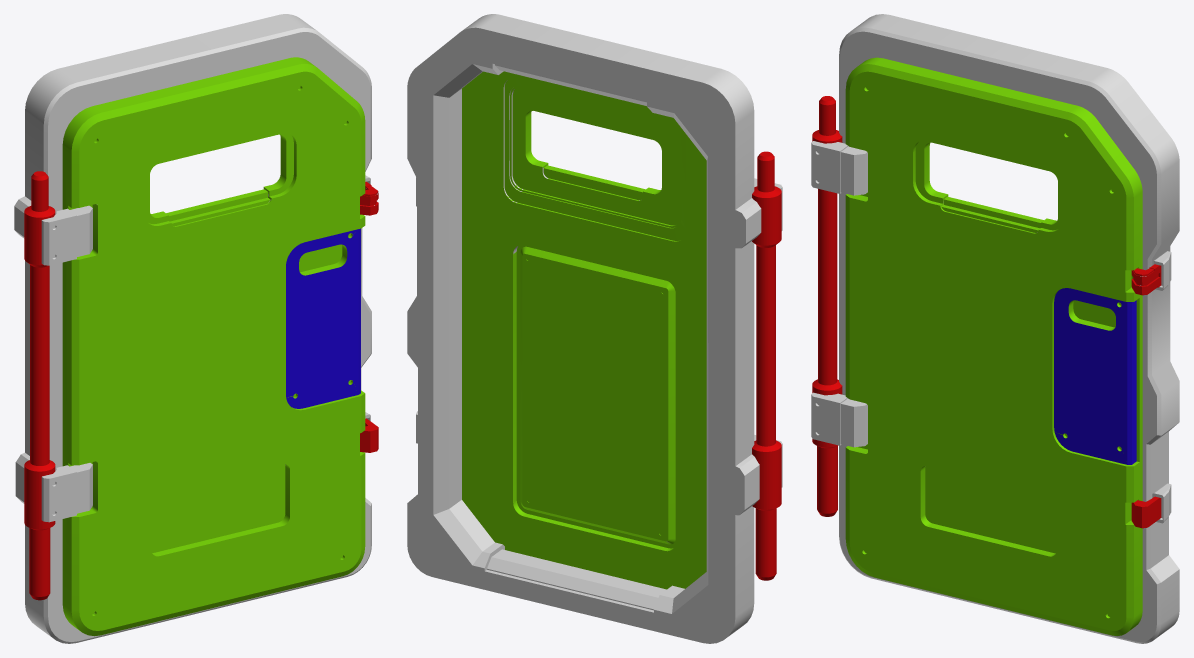
The model's file is Closed door.fbx.
The picture shows the model from 3 angles, left to right: view 1: azimuth 30°, elevation 25°; view 2: azimuth 150°, elevation 25°; view 3: azimuth 330°, elevation 25°; orthographic projection.
Visible parts, largest first — view 1: Cube.001, Cube, Cylinder, Cube.002, Cube.003; view 2: Cube.001, Cube, Cylinder; view 3: Cube.001, Cube, Cylinder, Cube.002, Cube.003, Cube.004.
Boxes of the visible parts, x1=… form: Cube.001: x1=62, y1=57, x2=365, y2=636; Cube: x1=14, y1=14, x2=371, y2=643; Cylinder: x1=24, y1=171, x2=55, y2=600; Cube.002: x1=41, y1=205, x2=92, y2=522; Cube.003: x1=360, y1=181, x2=378, y2=452; Cube.001: x1=462, y1=71, x2=706, y2=589; Cube: x1=407, y1=14, x2=761, y2=643; Cylinder: x1=752, y1=151, x2=781, y2=580; Cube.001: x1=845, y1=57, x2=1142, y2=635; Cube: x1=839, y1=14, x2=1179, y2=643; Cylinder: x1=812, y1=96, x2=842, y2=516; Cube.002: x1=811, y1=141, x2=867, y2=447; Cube.003: x1=1131, y1=264, x2=1161, y2=528; Cube.004: x1=1152, y1=251, x2=1171, y2=523.
Size of the model in its own units: 131 by 200 by 22.68.
